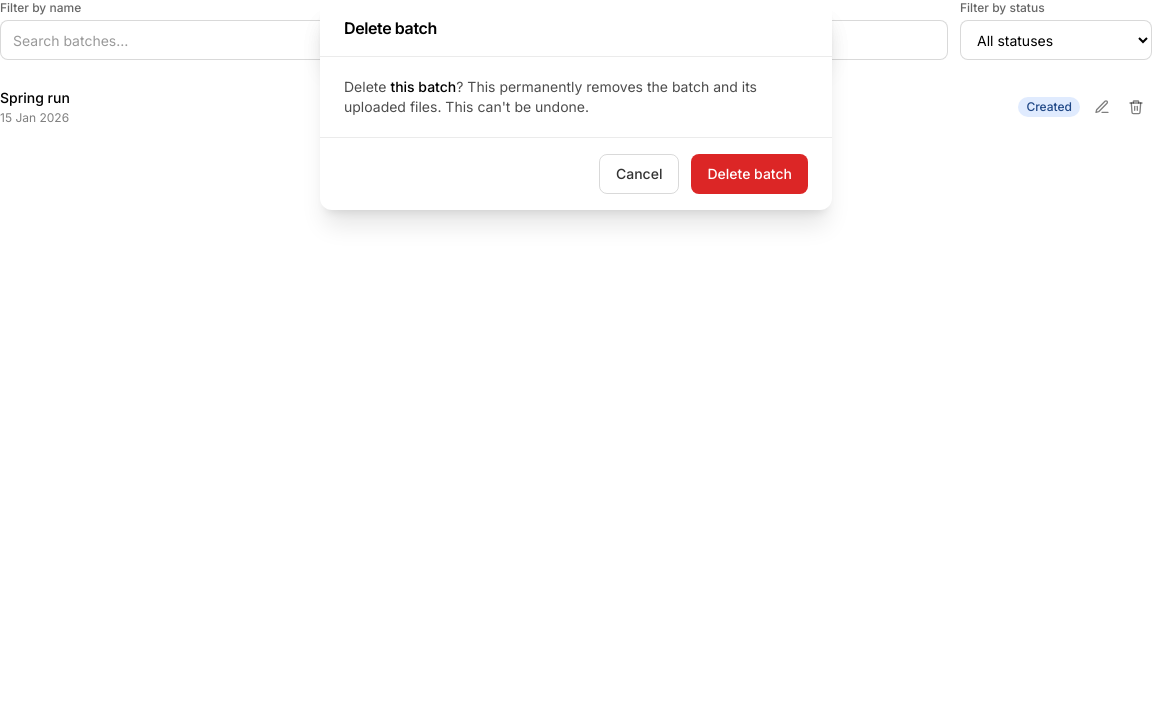
BatchesList › row actions › opens the edit dialog for the clicked row, prefilled with its name
Click the button named "Edit Spring run": (1102, 107) 1086,91 -> 1118,123
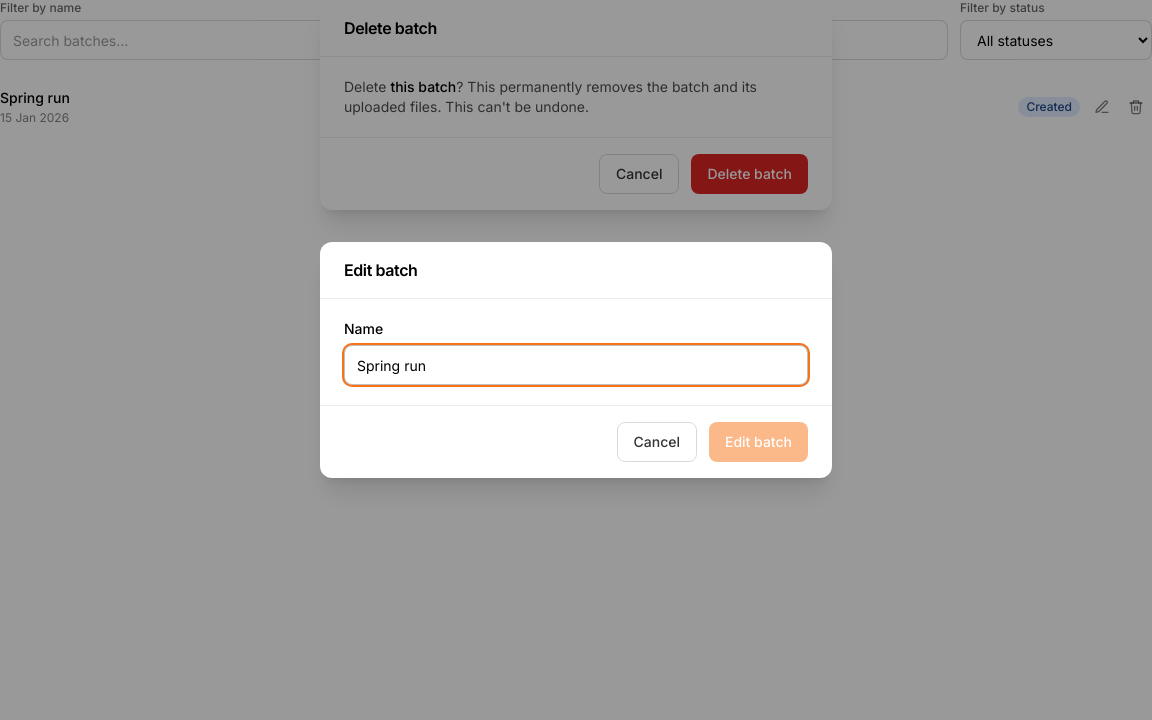
Check: the dialog "Edit batch" is shown, box 320,242 -> 832,478
Check: the field labelled "Name" holds "Spring run", box 344,345 -> 808,385
